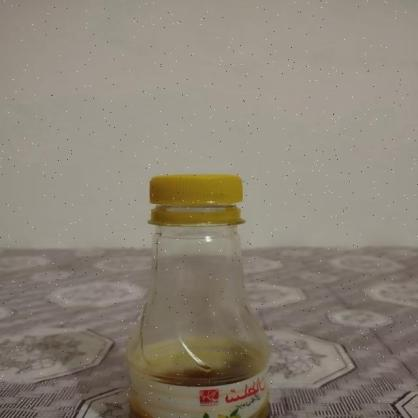bottle: (121, 160, 281, 418)
cap: (149, 170, 255, 231)
label: (129, 369, 276, 418)
